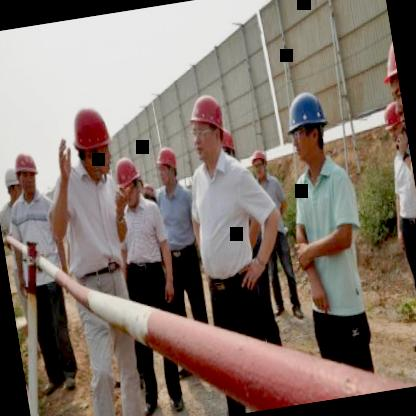helmet: (66, 99, 120, 184), (281, 83, 334, 168), (183, 89, 232, 165), (376, 35, 406, 132), (380, 92, 408, 158), (111, 152, 145, 206), (10, 148, 42, 200), (153, 141, 184, 192), (246, 146, 270, 184), (0, 162, 21, 205)
